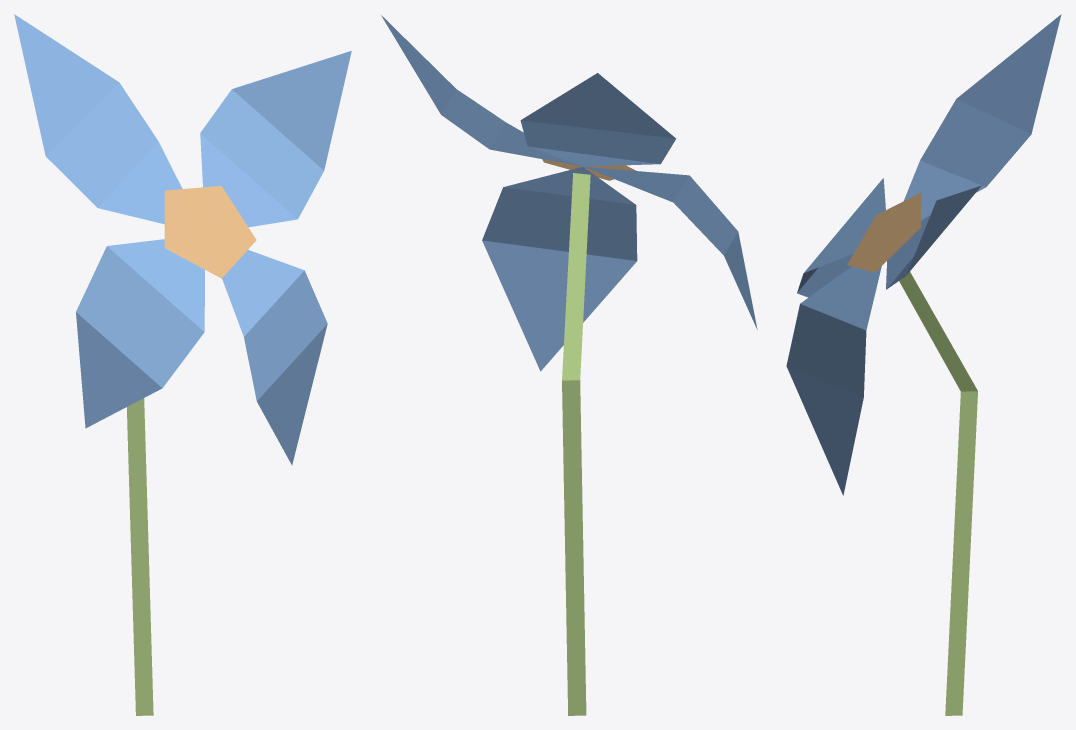
File: Flower_a_OneS_06.fbx
3 views of the same model, side by side, from view 1: azimuth 30°, elevation 25°; view 2: azimuth 150°, elevation 25°; view 3: azimuth 270°, elevation 25° (orthographic). The views are drawn at different scales.
Parts seen in each view (by area): view 1: Flower_a_OneS_06; view 2: Flower_a_OneS_06; view 3: Flower_a_OneS_06.
Part boxes in pixels (<box>): Flower_a_OneS_06: <box>14,14,351,715</box>; Flower_a_OneS_06: <box>381,15,757,715</box>; Flower_a_OneS_06: <box>786,14,1061,715</box>.
Size of the model in its own units: 0.3569 by 0.7326 by 0.2752.
